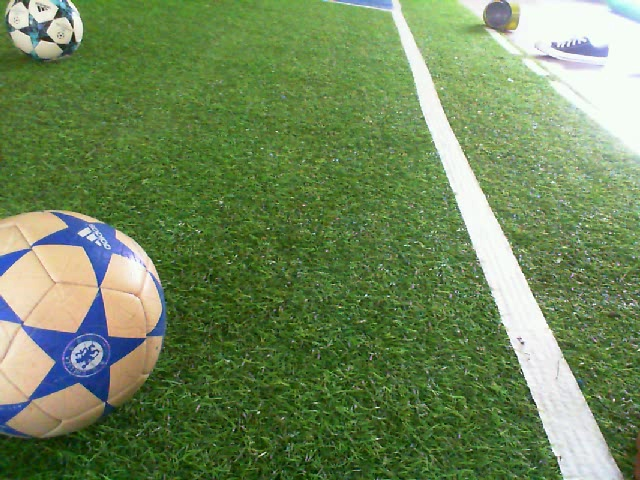ball: (1, 206, 171, 445), (2, 1, 86, 65)
